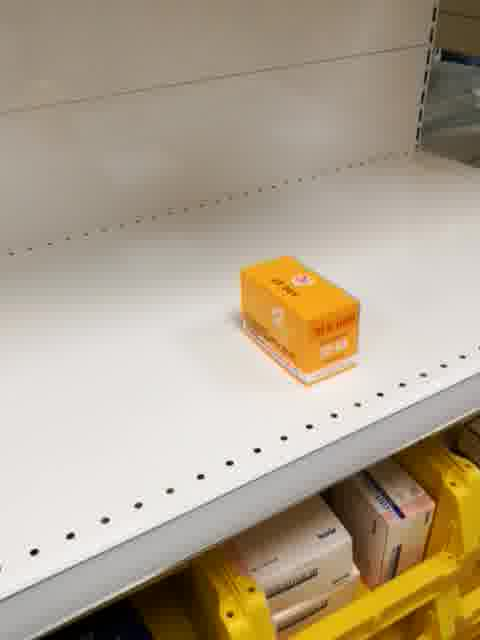jasminetea: (236, 252, 364, 389)
